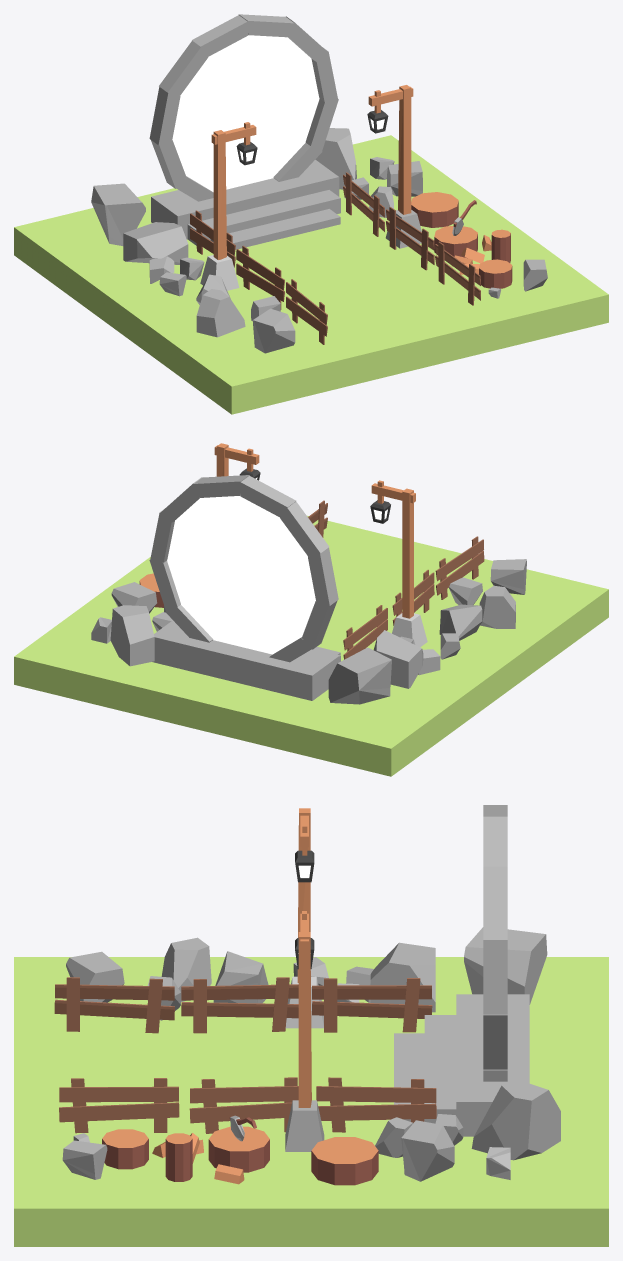
Rendered from portal.glb.
3 renders of one model, top to bottom at view 1: azimuth 30°, elevation 25°; view 2: azimuth 150°, elevation 25°; view 3: azimuth 270°, elevation 25°, orthographic. The views are drawn at different scales.
Parts seen in each view (by area): view 1: Plane, portal_liight, Cube.032, Cube.043, Cube.020, Cube.016, Cube.044, Cube.027, Cube.003, Cube.046, Cube.028, Cube.021 (+23 smaller); view 2: Plane, portal_liight, Cube.032, Cube.020, Cube.021, Cube.016, Cube.046, Fence.005, Cube.027, Cube.039, Cube.024, Cube.038 (+15 smaller); view 3: Plane, Cube.032, Cube.021, Fence.001, Fence.005, Fence.003, Fence.006, Fence.004, Fence.002, Cube.020, Cube.043, Trunk.003 (+20 smaller).
Part boxes in pixels (x1,y1,x2,y2): Plane: (14, 135, 608, 414); portal_liight: (172, 35, 319, 191); Cube.032: (151, 159, 339, 239); Cube.043: (187, 190, 340, 245); Cube.020: (91, 183, 145, 245); Cube.016: (123, 222, 188, 264); Cube.044: (210, 209, 340, 249); Cube.027: (196, 289, 245, 337); Cube.003: (398, 85, 411, 214); Cube.046: (213, 130, 226, 259); Cube.028: (252, 308, 295, 353); Cube.021: (315, 128, 356, 189); Plane: (14, 515, 608, 776); portal_liight: (167, 496, 315, 654); Cube.032: (152, 620, 339, 700); Cube.020: (328, 647, 391, 704); Cube.021: (110, 605, 154, 666); Cube.016: (373, 630, 423, 688); Cube.046: (402, 488, 413, 618); Fence.005: (435, 536, 484, 599); Cube.027: (479, 585, 515, 628); Cube.039: (280, 501, 329, 556); Cube.024: (439, 604, 482, 640); Cube.038: (240, 475, 296, 517); Plane: (14, 957, 608, 1246); Cube.032: (456, 994, 529, 1136); Cube.021: (471, 1080, 560, 1160); Fence.001: (59, 1078, 179, 1133); Fence.005: (54, 977, 174, 1033); Fence.003: (312, 978, 432, 1032); Fence.006: (316, 1077, 436, 1132); Fence.004: (181, 977, 298, 1033); Fence.002: (189, 1077, 298, 1133); Cube.020: (464, 927, 547, 1004); Cube.043: (424, 1015, 456, 1123); Trunk.003: (311, 1137, 378, 1185).
Bounding box in the file's own units: 4.58 × 2.58 × 4.58.
